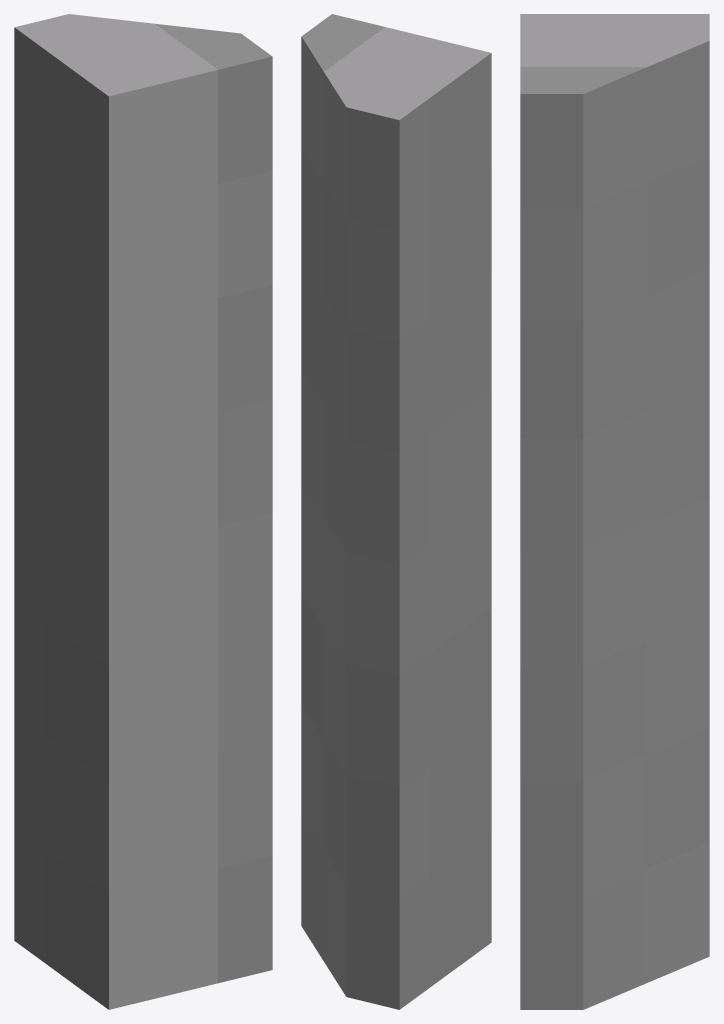
Rendered from deb_blank.obj.
3 views of the same model, side by side, from view 1: azimuth 30°, elevation 25°; view 2: azimuth 150°, elevation 25°; view 3: azimuth 270°, elevation 25° (orthographic). The views are drawn at different scales.
Parts seen in each view (by area): view 1: Column; view 2: Column; view 3: Column.
Part boxes in pixels (<box>): Column: <box>14,14,272,1009</box>; Column: <box>301,14,491,1009</box>; Column: <box>520,14,709,1009</box>.
Bounding box in the file's own units: 0.1875 × 1 × 0.1875.
